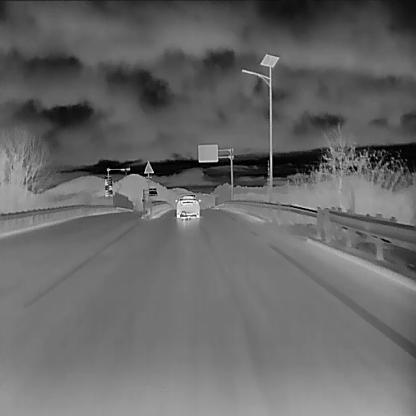car: (174, 192, 201, 218)
